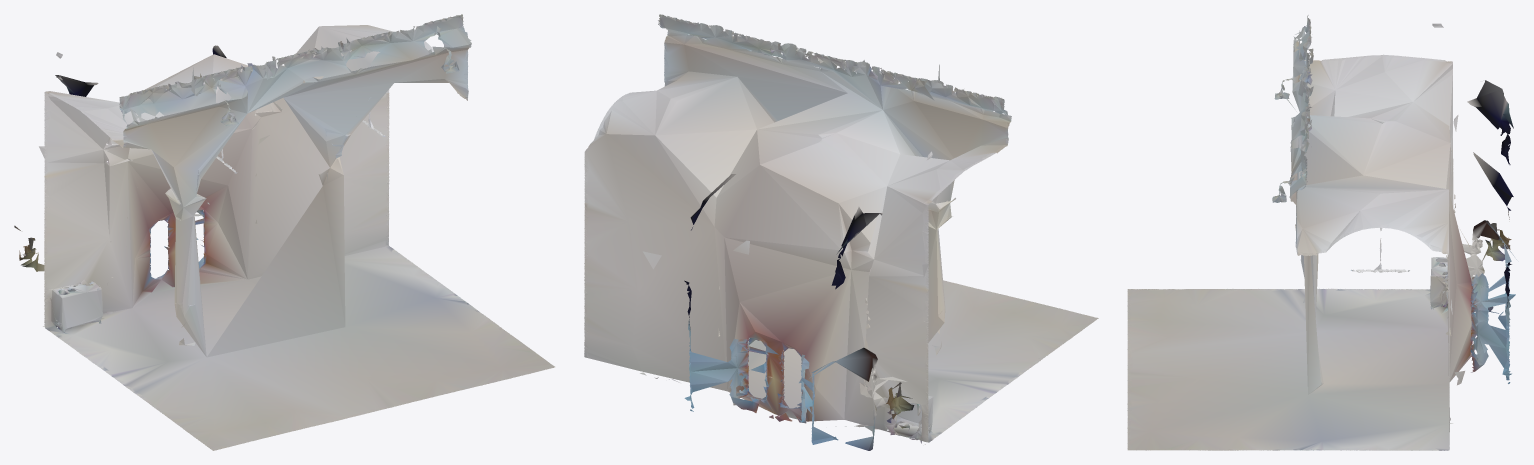
3 renders of one model, left to right at view 1: azimuth 30°, elevation 25°; view 2: azimuth 150°, elevation 25°; view 3: azimuth 270°, elevation 25°, orthographic. The views are drawn at different scales.
Size of the model in its own units: 10.17 by 8.66 by 10.28.
